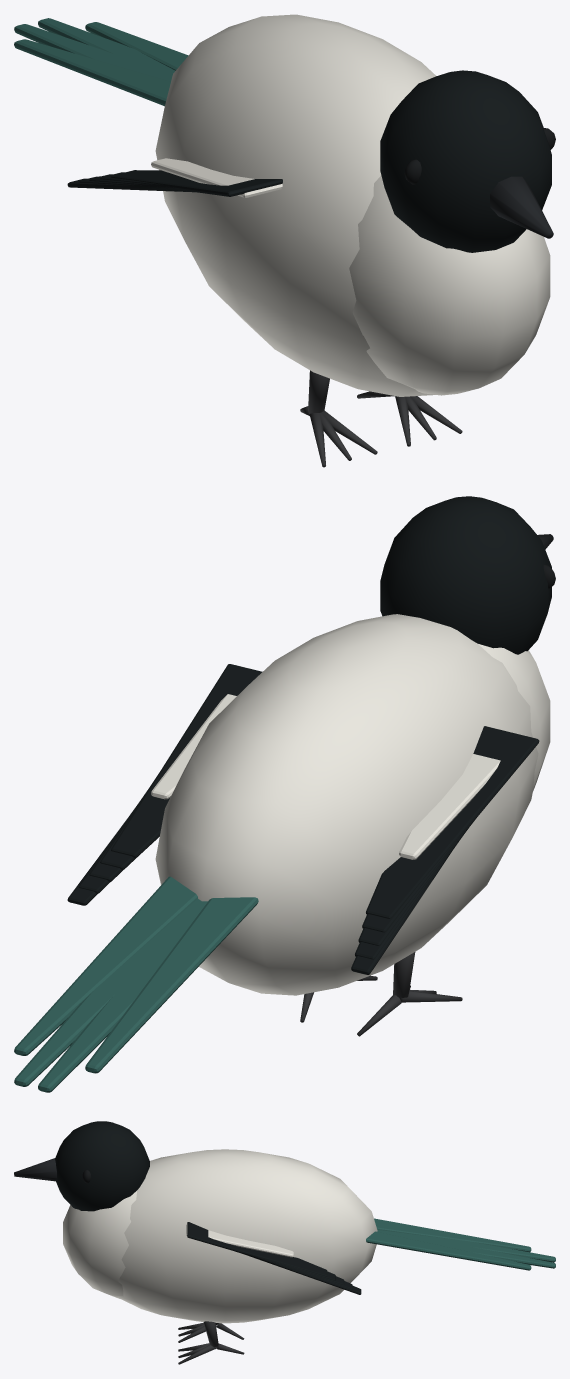
Rendered from perched.glb.
3 views of the same model, one above another, from view 1: azimuth 30°, elevation 25°; view 2: azimuth 150°, elevation 25°; view 3: azimuth 270°, elevation 25° (orthographic). The views are drawn at different scales.
Parts seen in each view (by area): view 1: Torso, ChestPatch, Head, Tail_0, Bill, Wing_-1_0, Tail_1, Tail_2, WhiteScapular_-1, Tail_3, Leg_-1; view 2: Torso, Head, Tail_0, Wing_-1_0, Tail_3, Tail_2, Tail_1, Wing_1_0, WhiteScapular_-1, ChestPatch, WhiteScapular_1, Wing_-1_4 (+3 smaller); view 3: Torso, Head, ChestPatch, Tail_3, Wing_1_0, Tail_0, Tail_2, Tail_1, WhiteScapular_1, Bill.
Part boxes in pixels (bbox=[...]): Torso: bbox=[155, 14, 436, 396]; ChestPatch: bbox=[349, 175, 550, 395]; Head: bbox=[380, 70, 551, 252]; Tail_0: bbox=[14, 39, 170, 106]; Bill: bbox=[490, 176, 553, 238]; Wing_-1_0: bbox=[111, 170, 282, 196]; Tail_1: bbox=[14, 24, 171, 81]; Tail_2: bbox=[38, 18, 175, 80]; WhiteScapular_-1: bbox=[151, 158, 282, 197]; Tail_3: bbox=[85, 22, 188, 70]; Leg_-1: bbox=[308, 370, 329, 413]; Torso: bbox=[155, 614, 538, 995]; Head: bbox=[380, 496, 551, 654]; Tail_0: bbox=[85, 897, 258, 1073]; Wing_-1_0: bbox=[366, 726, 539, 918]; Tail_3: bbox=[14, 876, 197, 1055]; Tail_2: bbox=[14, 899, 207, 1086]; Tail_1: bbox=[38, 901, 205, 1092]; Wing_1_0: bbox=[111, 664, 262, 858]; WhiteScapular_-1: bbox=[399, 754, 500, 859]; ChestPatch: bbox=[478, 644, 550, 790]; WhiteScapular_1: bbox=[151, 694, 236, 799]; Wing_-1_4: bbox=[351, 856, 448, 974]; Torso: bbox=[117, 1149, 377, 1323]; Head: bbox=[55, 1121, 149, 1211]; ChestPatch: bbox=[63, 1191, 136, 1298]; Tail_3: bbox=[366, 1231, 531, 1270]; Wing_1_0: bbox=[187, 1222, 327, 1276]; Tail_0: bbox=[374, 1218, 531, 1252]; Tail_2: bbox=[377, 1230, 555, 1268]; Tail_1: bbox=[393, 1231, 555, 1262]; WhiteScapular_1: bbox=[186, 1224, 293, 1257]; Bill: bbox=[14, 1158, 56, 1181].
Size of the model in its own units: 0.2623 by 0.3427 by 0.7564.
